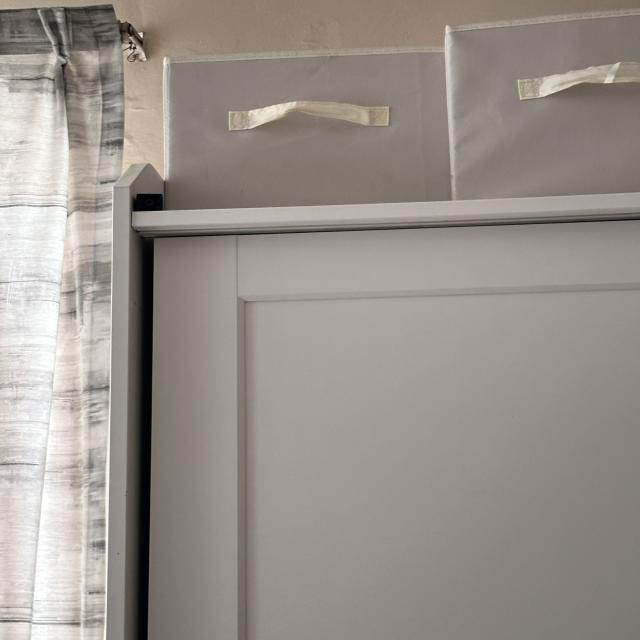hidden camera: (143, 198, 156, 207)
